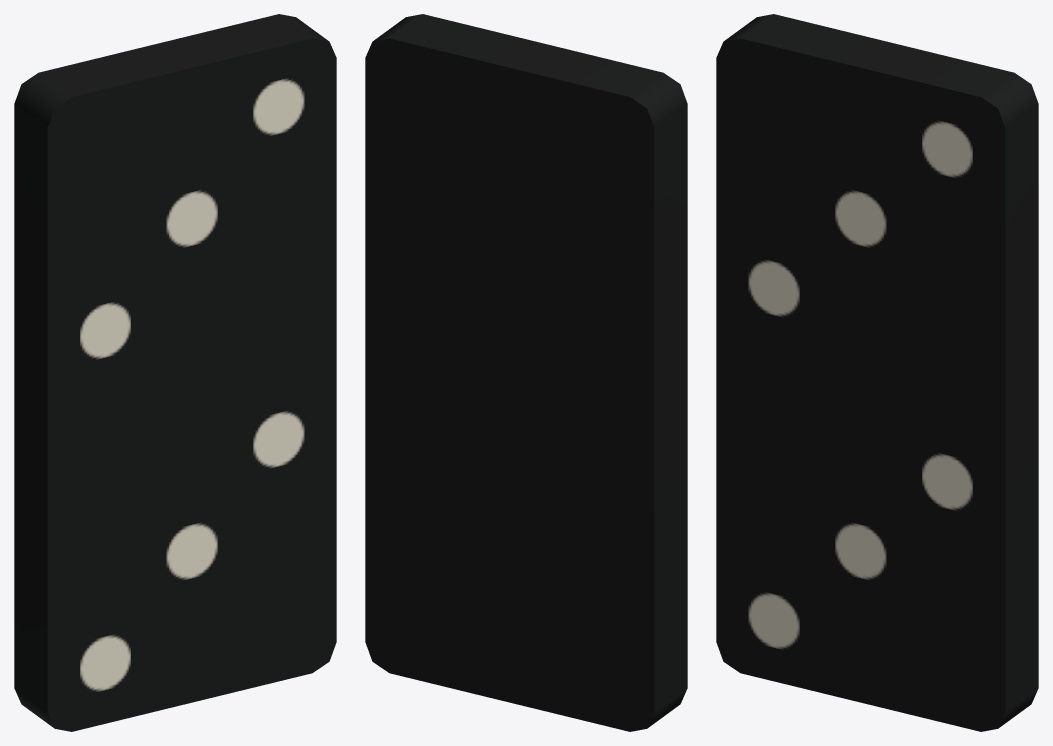
3 renders of one model, left to right at view 1: azimuth 30°, elevation 25°; view 2: azimuth 150°, elevation 25°; view 3: azimuth 330°, elevation 25°, orthographic.
Parts seen in each view (by area): view 1: domino_low_33; view 2: domino_low_33; view 3: domino_low_33.
Part boxes in pixels (<box>): domino_low_33: <box>14,14,336,731</box>; domino_low_33: <box>365,14,687,731</box>; domino_low_33: <box>716,14,1038,731</box>.
Size of the model in its own units: 2 by 4.2 by 0.4.
